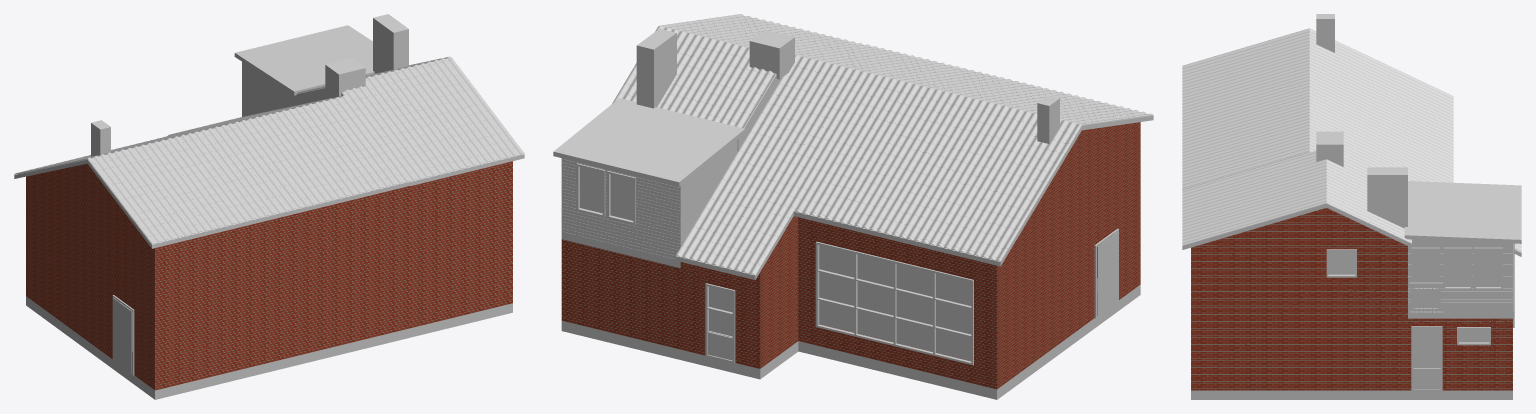
File: Kutterspansgatan_tillbyggnad.glb
3 views of the same model, side by side, from view 1: azimuth 30°, elevation 25°; view 2: azimuth 150°, elevation 25°; view 3: azimuth 270°, elevation 25° (orthographic). The views are drawn at different scales.
Visible parts, largest first — view 1: Befintliga_yttervaggar, Bef_enkupigt_tegel_SO, Bef_enkupigt_tegel_NO, Tillbyggnad_tak_2_5_grader, Sockel, Skorsten_nord, Tillbyggnad_yttervaggar, Bef_tak_soder_ost, Skorsten_mitt, S_dubbeldorr_glas, Bef_enkupigt_tegel_SV, Skorsten_syd (+1 smaller); view 2: Befintliga_yttervaggar, Bef_enkupigt_tegel_SV, Bef_enkupigt_tegel_MV, V_stort_fonster_glas, Tillbyggnad_tak_2_5_grader, Tillbyggnad_yttervaggar, Bef_enkupigt_tegel_SO, Bef_enkupigt_tegel_NV, Sockel, V_stort_fonster_karm, Bef_enkupigt_tegel_NO, Skorsten_nord (+13 smaller); view 3: Befintliga_yttervaggar, Bef_enkupigt_tegel_SO, Bef_enkupigt_tegel_SV, Bef_enkupigt_tegel_NO, Tillbyggnad_tak_2_5_grader, Tillbyggnad_yttervaggar, Sockel, Bef_enkupigt_tegel_NV, Skorsten_nord, Bef_enkupigt_tegel_MV, N_entre_glas, Ny_N_fonster_1_glas (+16 smaller).
Part boxes in pixels (x1,y1,x2,y2): Befintliga_yttervaggar: (26, 161, 512, 390); Bef_enkupigt_tegel_SO: (87, 95, 409, 243); Bef_enkupigt_tegel_NO: (342, 56, 524, 181); Tillbyggnad_tak_2_5_grader: (234, 25, 374, 95); Sockel: (26, 296, 512, 399); Skorsten_nord: (373, 14, 408, 73); Tillbyggnad_yttervaggar: (242, 62, 292, 116); Bef_tak_soder_ost: (87, 159, 409, 248); Skorsten_mitt: (325, 58, 365, 97); S_dubbeldorr_glas: (113, 297, 131, 373); Bef_enkupigt_tegel_SV: (14, 113, 269, 174); Skorsten_syd: (91, 120, 110, 156); Befintliga_yttervaggar: (561, 122, 1140, 389); Bef_enkupigt_tegel_SV: (794, 74, 1081, 261); Bef_enkupigt_tegel_MV: (676, 54, 874, 275); V_stort_fonster_glas: (819, 245, 971, 361); Tillbyggnad_tak_2_5_grader: (553, 98, 745, 186); Tillbyggnad_yttervaggar: (561, 140, 737, 262); Bef_enkupigt_tegel_SO: (797, 44, 1153, 125); Bef_enkupigt_tegel_NV: (612, 25, 775, 128); Sockel: (561, 278, 1140, 399); V_stort_fonster_karm: (815, 241, 973, 365); Bef_enkupigt_tegel_NO: (661, 14, 863, 54); Skorsten_nord: (636, 28, 676, 108); Befintliga_yttervaggar: (1191, 208, 1512, 390); Bef_enkupigt_tegel_SO: (1182, 28, 1309, 189); Bef_enkupigt_tegel_SV: (1309, 28, 1453, 182); Bef_enkupigt_tegel_NO: (1182, 150, 1326, 245); Tillbyggnad_tak_2_5_grader: (1404, 181, 1521, 243); Tillbyggnad_yttervaggar: (1408, 239, 1512, 313); Sockel: (1191, 390, 1512, 399); Bef_enkupigt_tegel_NV: (1326, 156, 1411, 243); Skorsten_nord: (1367, 167, 1407, 228); Bef_enkupigt_tegel_MV: (1309, 119, 1521, 252); N_entre_glas: (1413, 328, 1440, 367); Ny_N_fonster_1_glas: (1445, 250, 1470, 286).
Size of the model in its own units: 12.5 by 7.1 by 10.
1 material, 1 textured.
